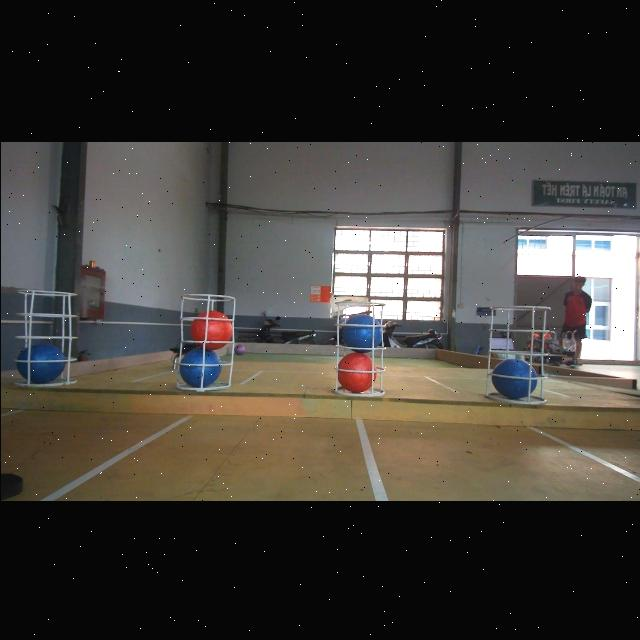B: (16, 342, 64, 382), (491, 357, 535, 399), (342, 312, 381, 352), (180, 347, 220, 385)
R: (188, 308, 232, 348), (336, 351, 374, 393)
